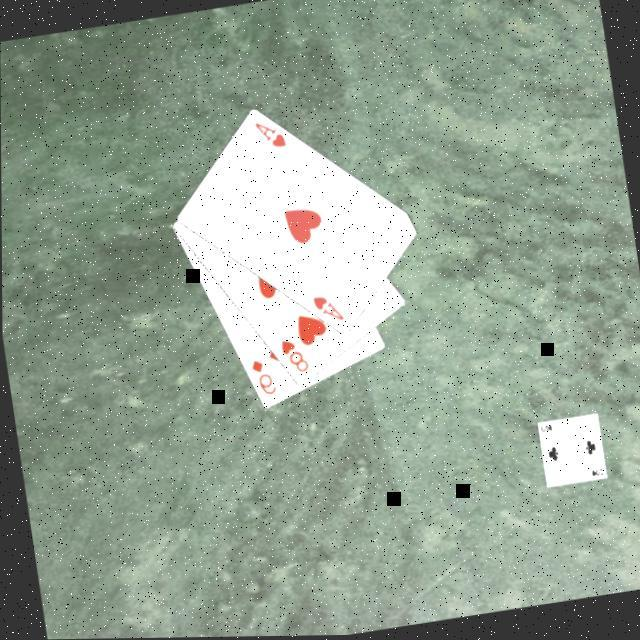6D: (247, 357, 281, 402)
8H: (277, 335, 313, 381)
AH: (309, 291, 349, 331), (250, 118, 290, 158)
